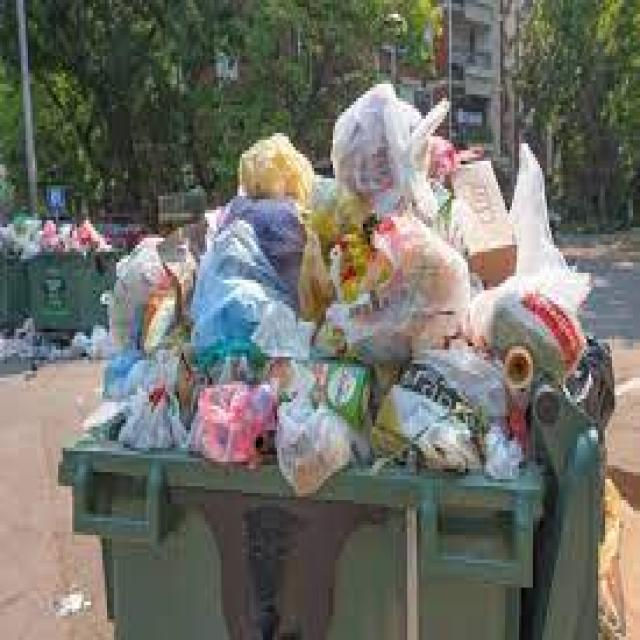Garbage: (85, 83, 614, 495), (0, 214, 111, 258)
Plastic_Bag: (469, 143, 591, 345), (326, 212, 470, 364), (372, 346, 522, 478), (192, 197, 304, 351), (331, 83, 449, 223), (84, 349, 186, 450), (276, 394, 351, 496), (110, 237, 166, 348), (239, 133, 315, 207)
